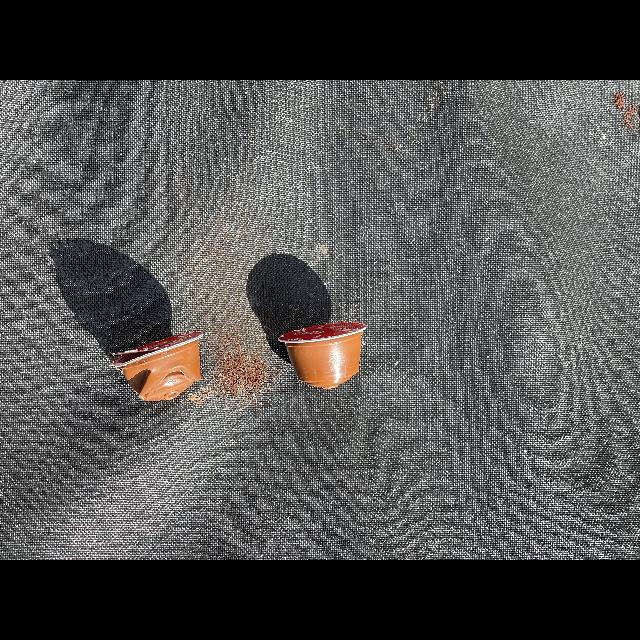damaged_capsule: (101, 323, 213, 411)
intact_capsule: (272, 314, 376, 396)
